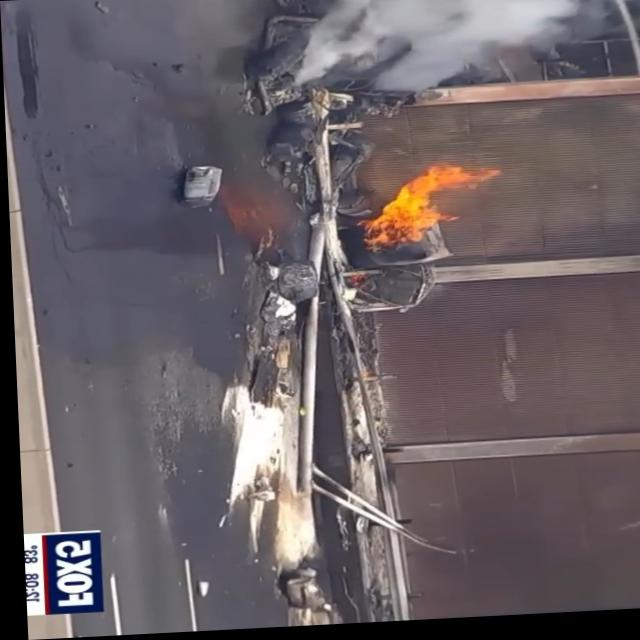Fire: (357, 157, 505, 249)
